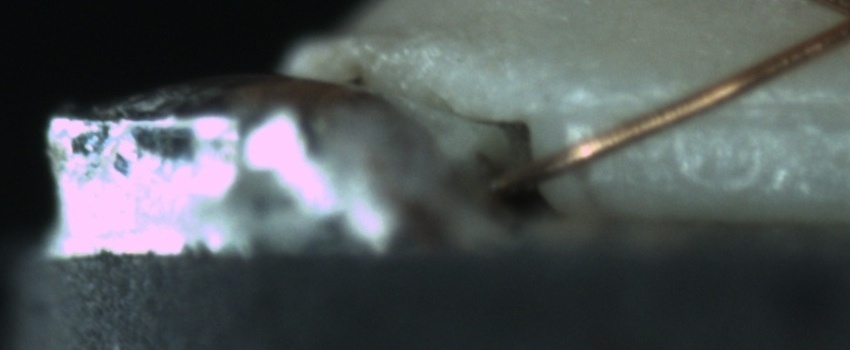DL: (569, 75, 850, 146)
